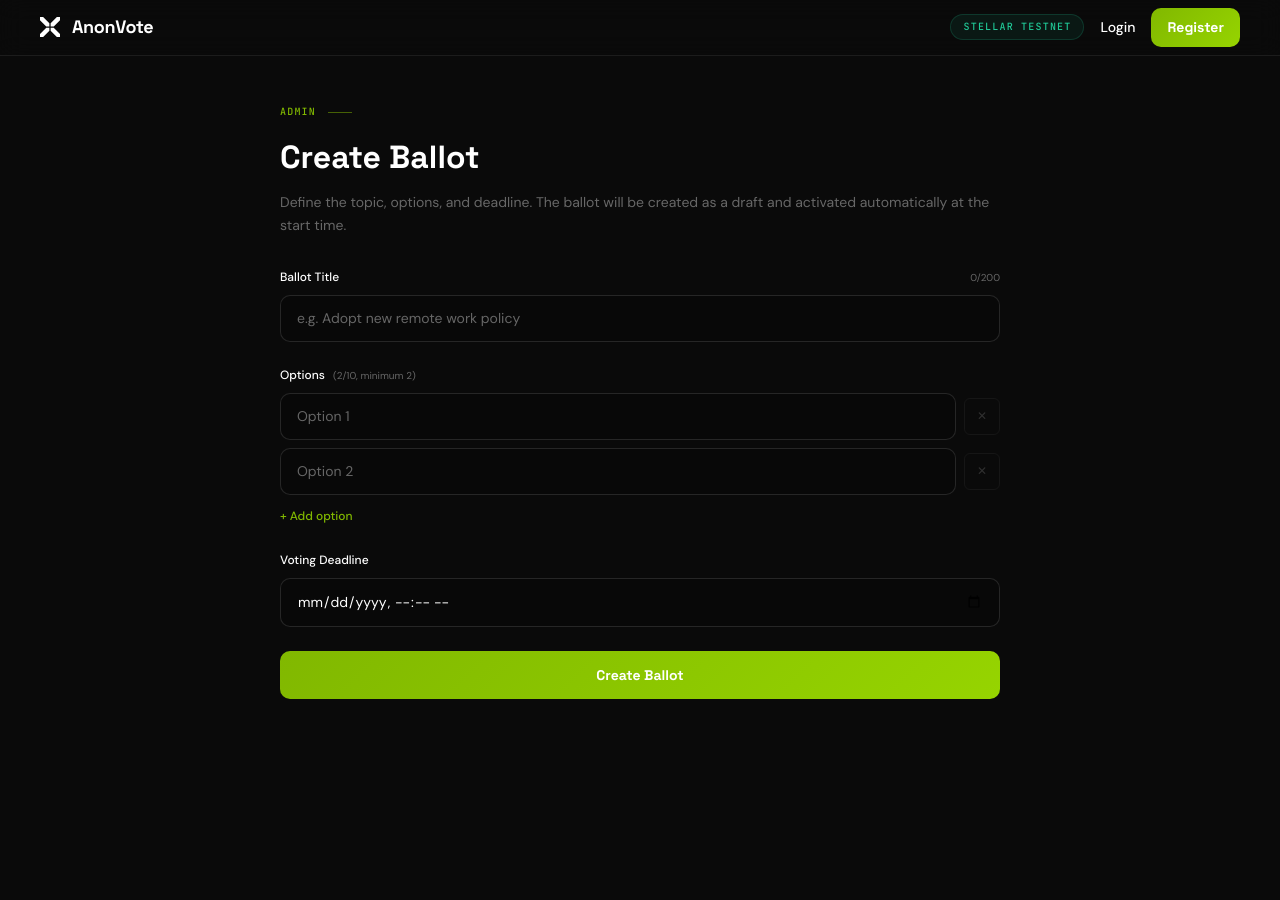
Admin CreateBallotPage — Option List › enables remove button when more than 2 options exist
Add an option
Click the button "+ Add option" at coordinates (316, 517), box [280, 507, 353, 526]
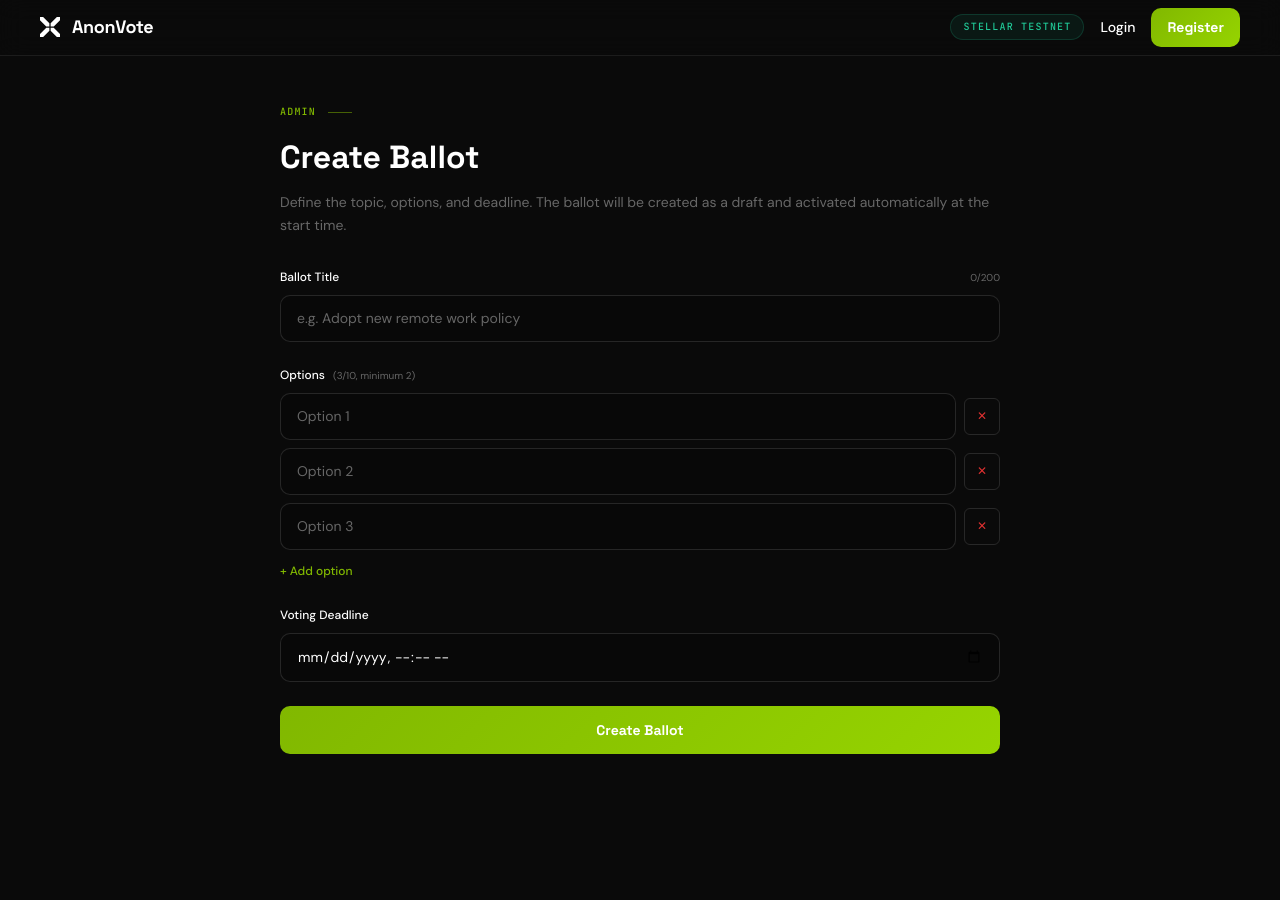
Check: the 1st button titled "Remove option" is enabled, box [964, 398, 1000, 436]
Check: the number of buttons titled "Remove option" is 3, box [964, 398, 1000, 436]; [964, 453, 1000, 490]; [964, 508, 1000, 546]
